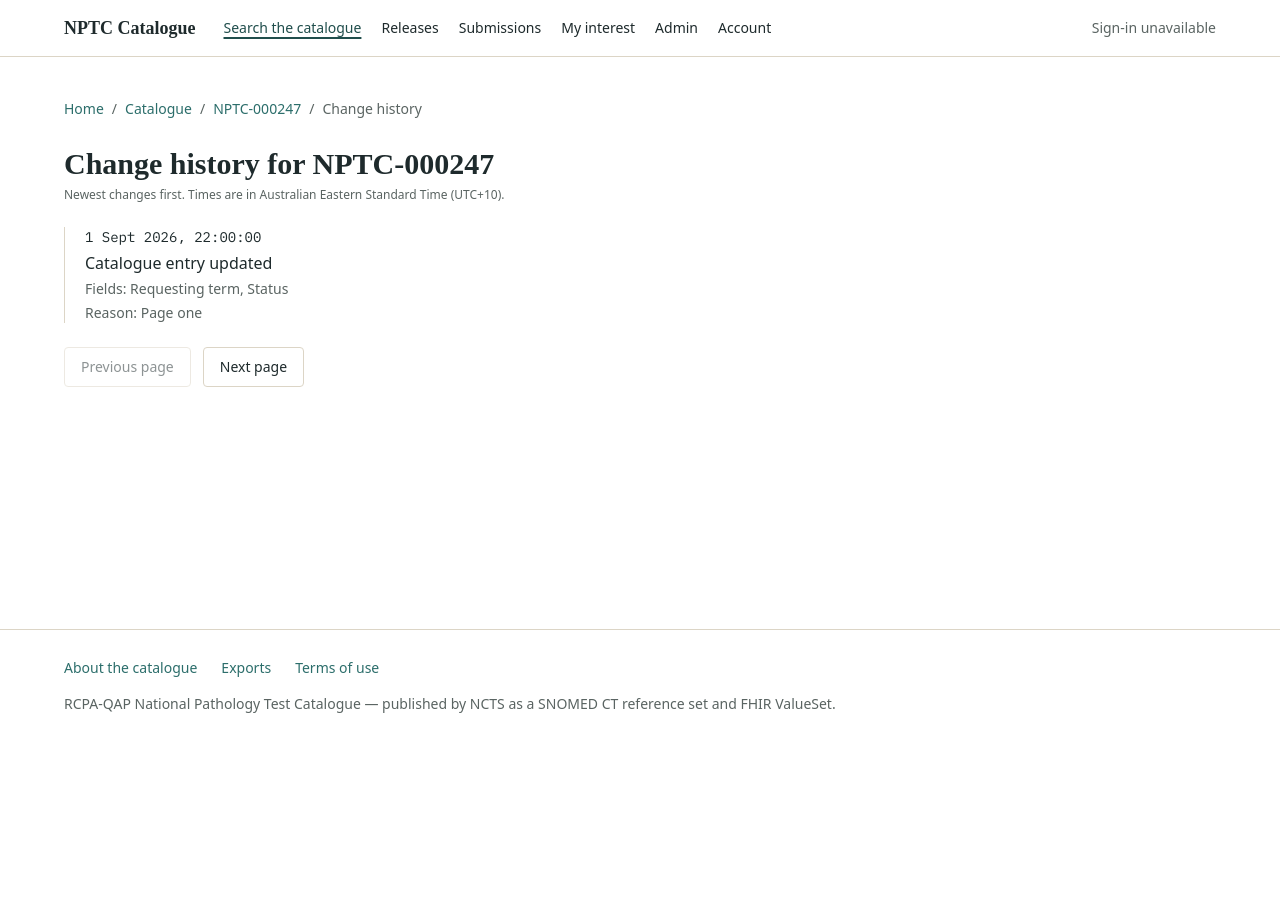
paging › returns to the earlier page with Previous, and offers none on the first
Expected: the text "Reason: Page one" is shown, [85, 302, 202, 322]
Click the button "Next page": point(253, 366) [203, 346, 304, 386]
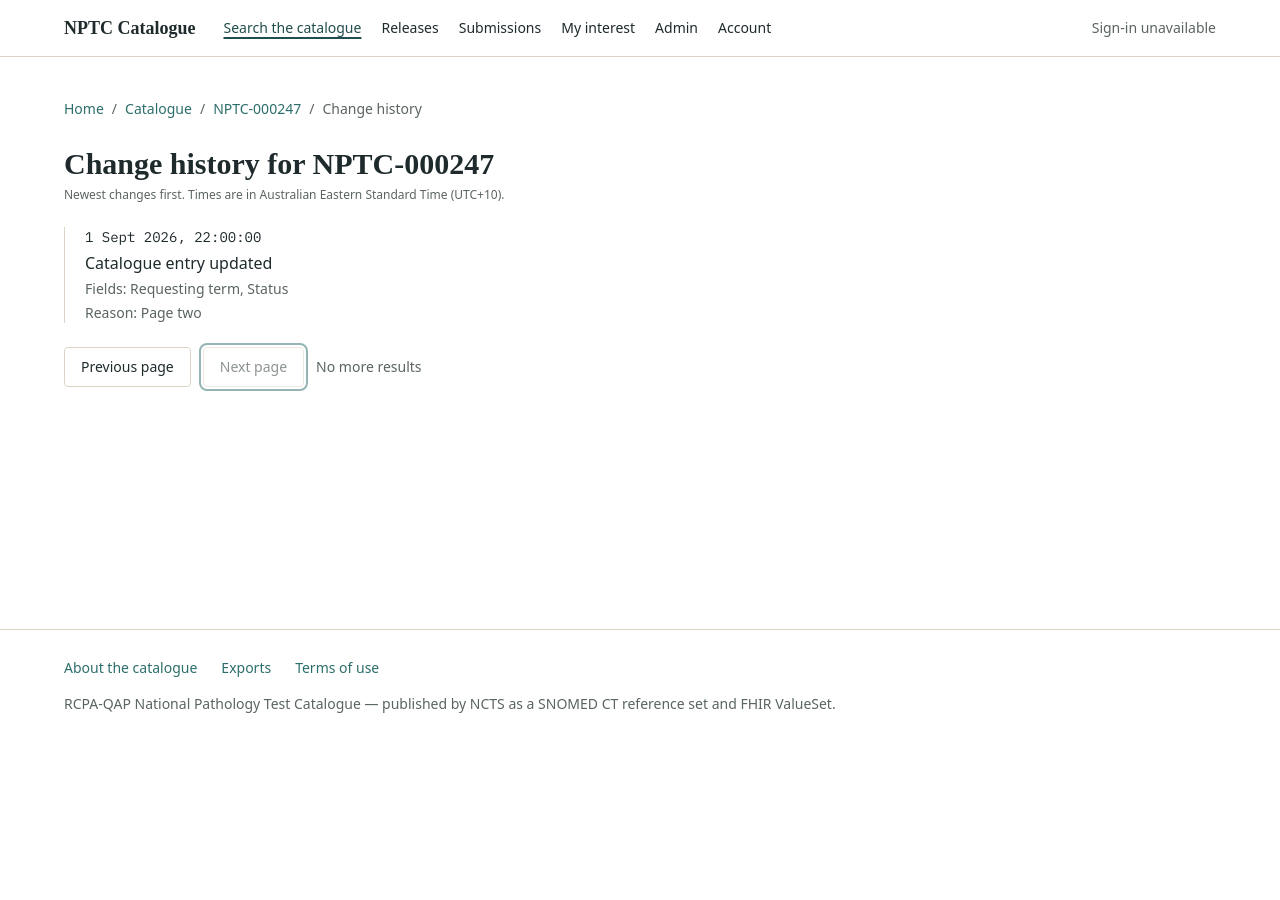
Expected: the text "Reason: Page two" is shown, [85, 302, 202, 322]
Click the button "Previous page": point(127, 366) [64, 346, 191, 386]
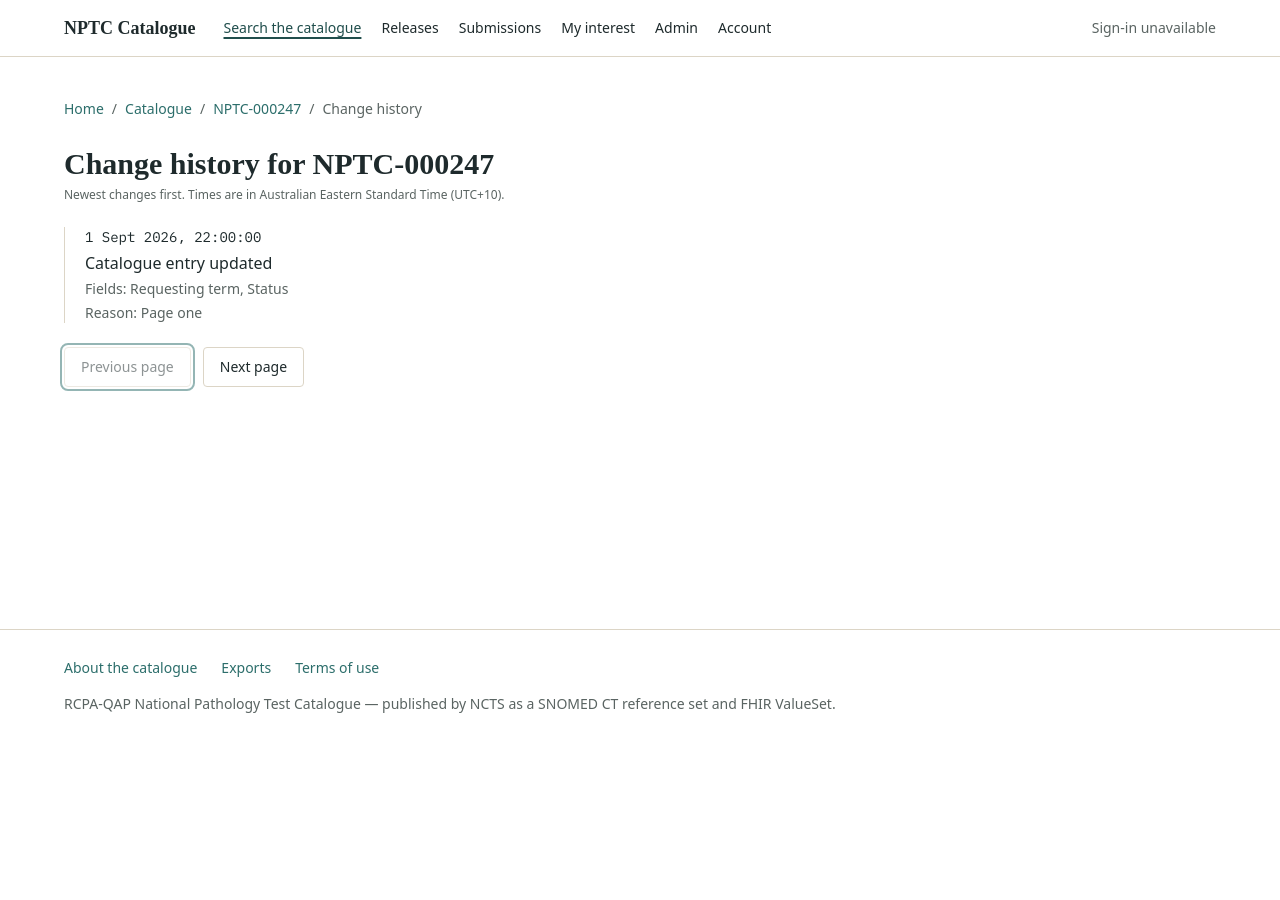
Expected: the text "Reason: Page one" is shown, [85, 302, 202, 322]
